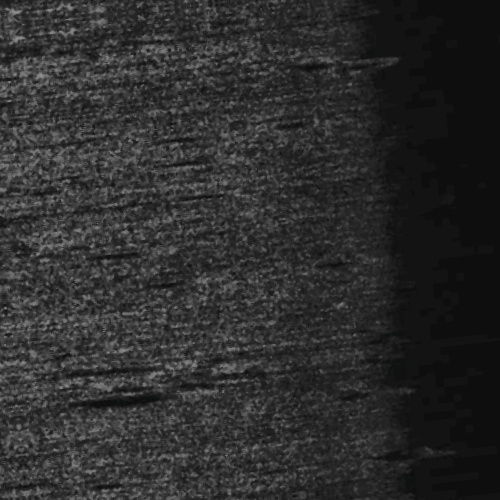object: (130, 378, 213, 387), (130, 347, 203, 354)
shadow: (60, 378, 171, 387), (82, 347, 166, 354)
